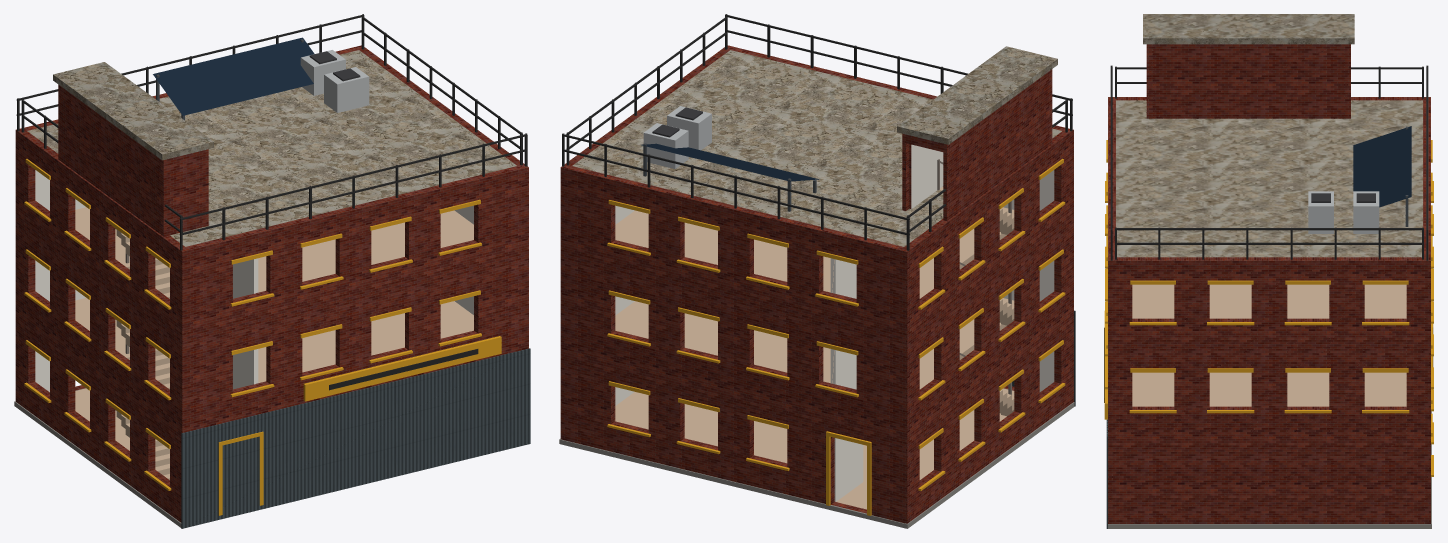
Rendered from mh-garage-flats.towns-v2.lod0.glb.
3 views of the same model, side by side, from view 1: azimuth 30°, elevation 25°; view 2: azimuth 150°, elevation 25°; view 3: azimuth 270°, elevation 25° (orthographic). The views are drawn at different scales.
Parts seen in each view (by area): view 1: mh-garage-flats; view 2: mh-garage-flats; view 3: mh-garage-flats.
Part boxes in pixels (<box>): mh-garage-flats: <box>14,14,530,528</box>; mh-garage-flats: <box>559,14,1075,528</box>; mh-garage-flats: <box>1104,14,1433,528</box>.
Size of the model in its own units: 12.18 by 11.96 by 10.21.
Materials: 6 (3 with a texture image).
